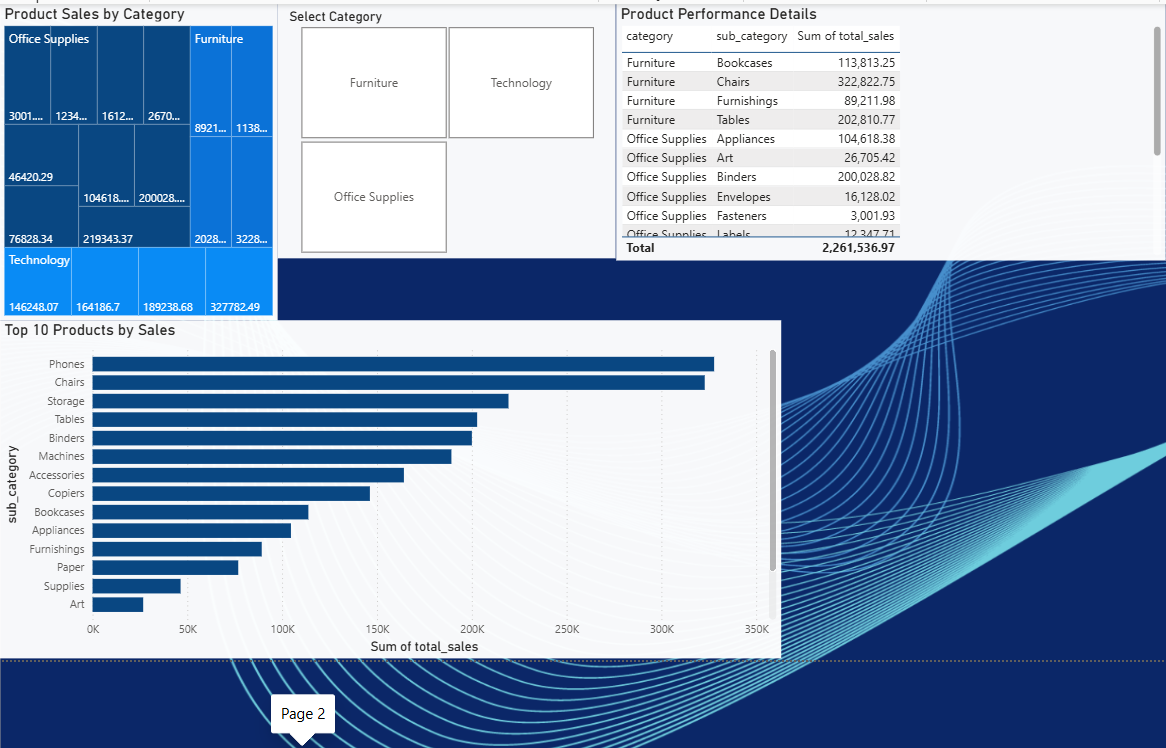

This screenshot's page, from the dashboard's own definition file:
{"tool":"powerbi","page":{"name":"Page 2","canvas":[1280,720],"ordinal":1},"visuals":[{"type":"treemap","title":"Product Sales by Category","fields":{"Group":["sales_analytics view_product_performance.category"],"Values":["CountNonNull(sales_analytics view_product_performance.sub_category)"],"Details":["sales_analytics view_product_performance.total_sales"]},"box":[0,0,304.6,347.2],"z":0},{"type":"clusteredBarChart","title":"Top 10 Products by Sales","fields":{"Category":["sales_analytics view_product_performance.sub_category"],"Y":["Sum(sales_analytics view_product_performance.total_sales)"]},"box":[0,347.7,857.4,371.6],"z":1000},{"type":"tableEx","title":"Product Performance Details","fields":{"Values":["sales_analytics view_product_performance.category","sales_analytics view_product_performance.sub_category","Sum(sales_analytics view_product_performance.total_sales)"]},"box":[676.7,0,603.4,281.3],"z":2000},{"type":"slicer","fields":{"Values":["sales_analytics view_product_performance.category"]},"box":[305.1,0,371.6,279.6],"z":3000}]}

Visuals, with their boxes on the page's 1280x720 design canvas (x1, y1, x2, y2). These are canvas units, not pixel positions in the 1166x748 screenshot, which may show the page scaled, cropped or inside an application window:
"Product Sales by Category" treemap: bbox(0, 0, 305, 347)
"Top 10 Products by Sales" clusteredBarChart: bbox(0, 348, 857, 719)
"Product Performance Details" tableEx: bbox(677, 0, 1280, 281)
slicer - sales_analytics view_product_performance.category: bbox(305, 0, 677, 280)
